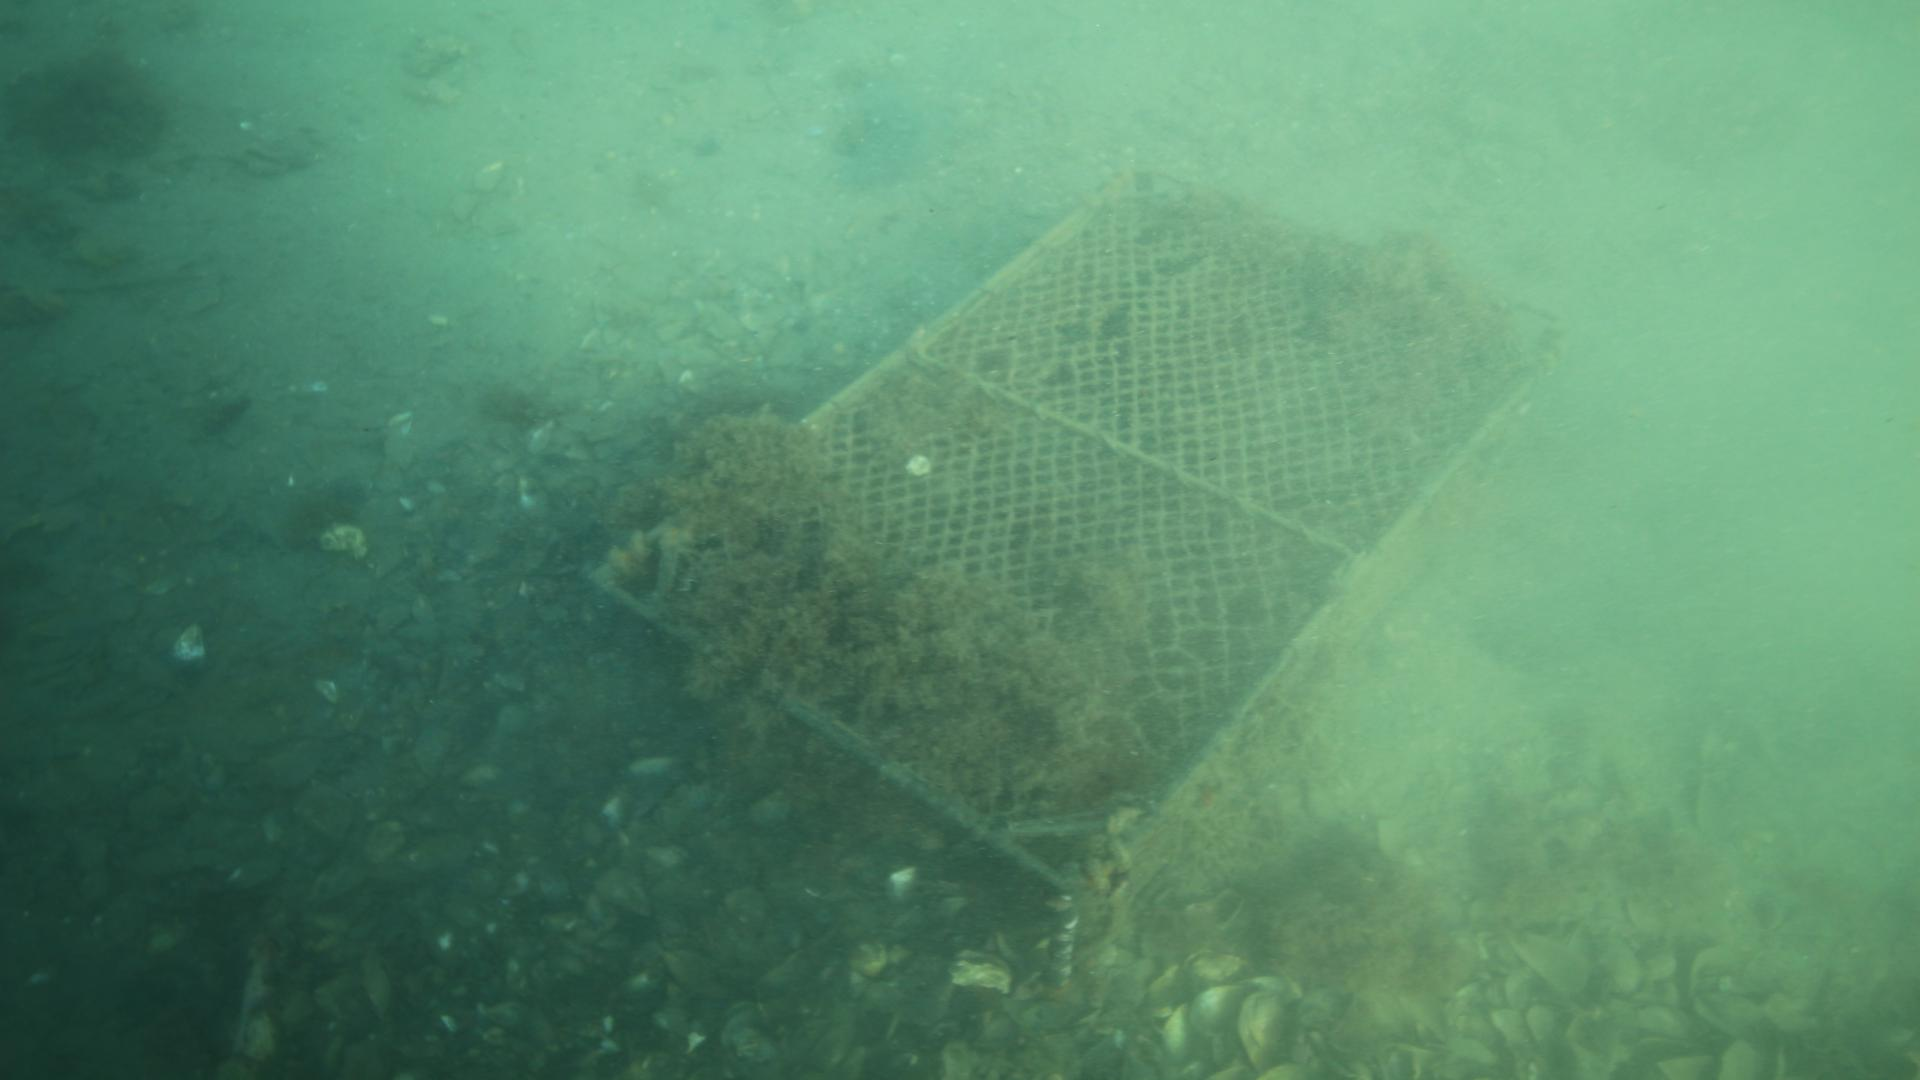rectangular fish trap: (589, 164, 1572, 1000)
